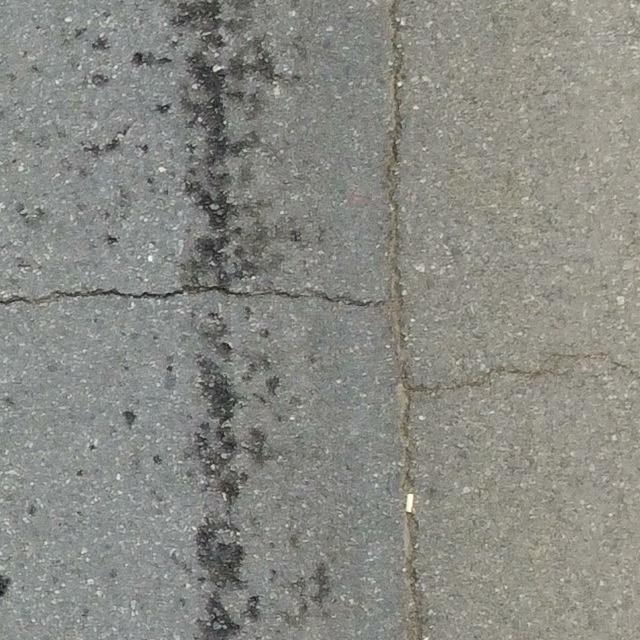LongitudinalCrack: (386, 1, 423, 639)
TransverseCrack: (414, 349, 640, 397), (2, 285, 391, 306)
